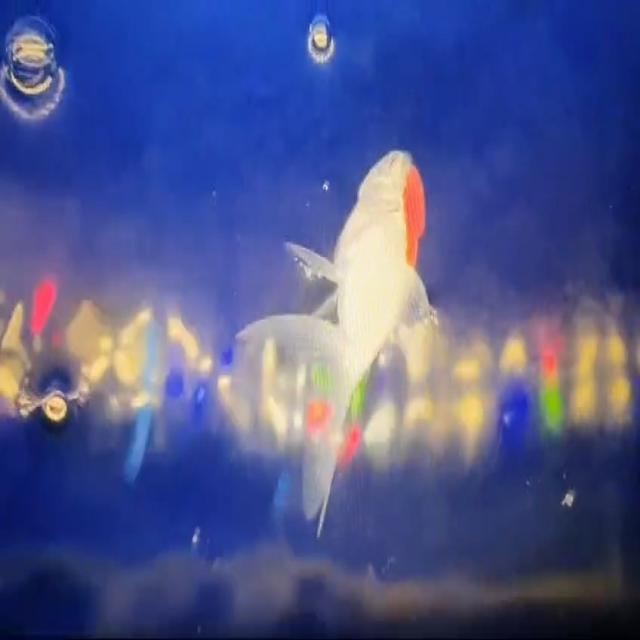fish: (235, 106, 440, 544)
